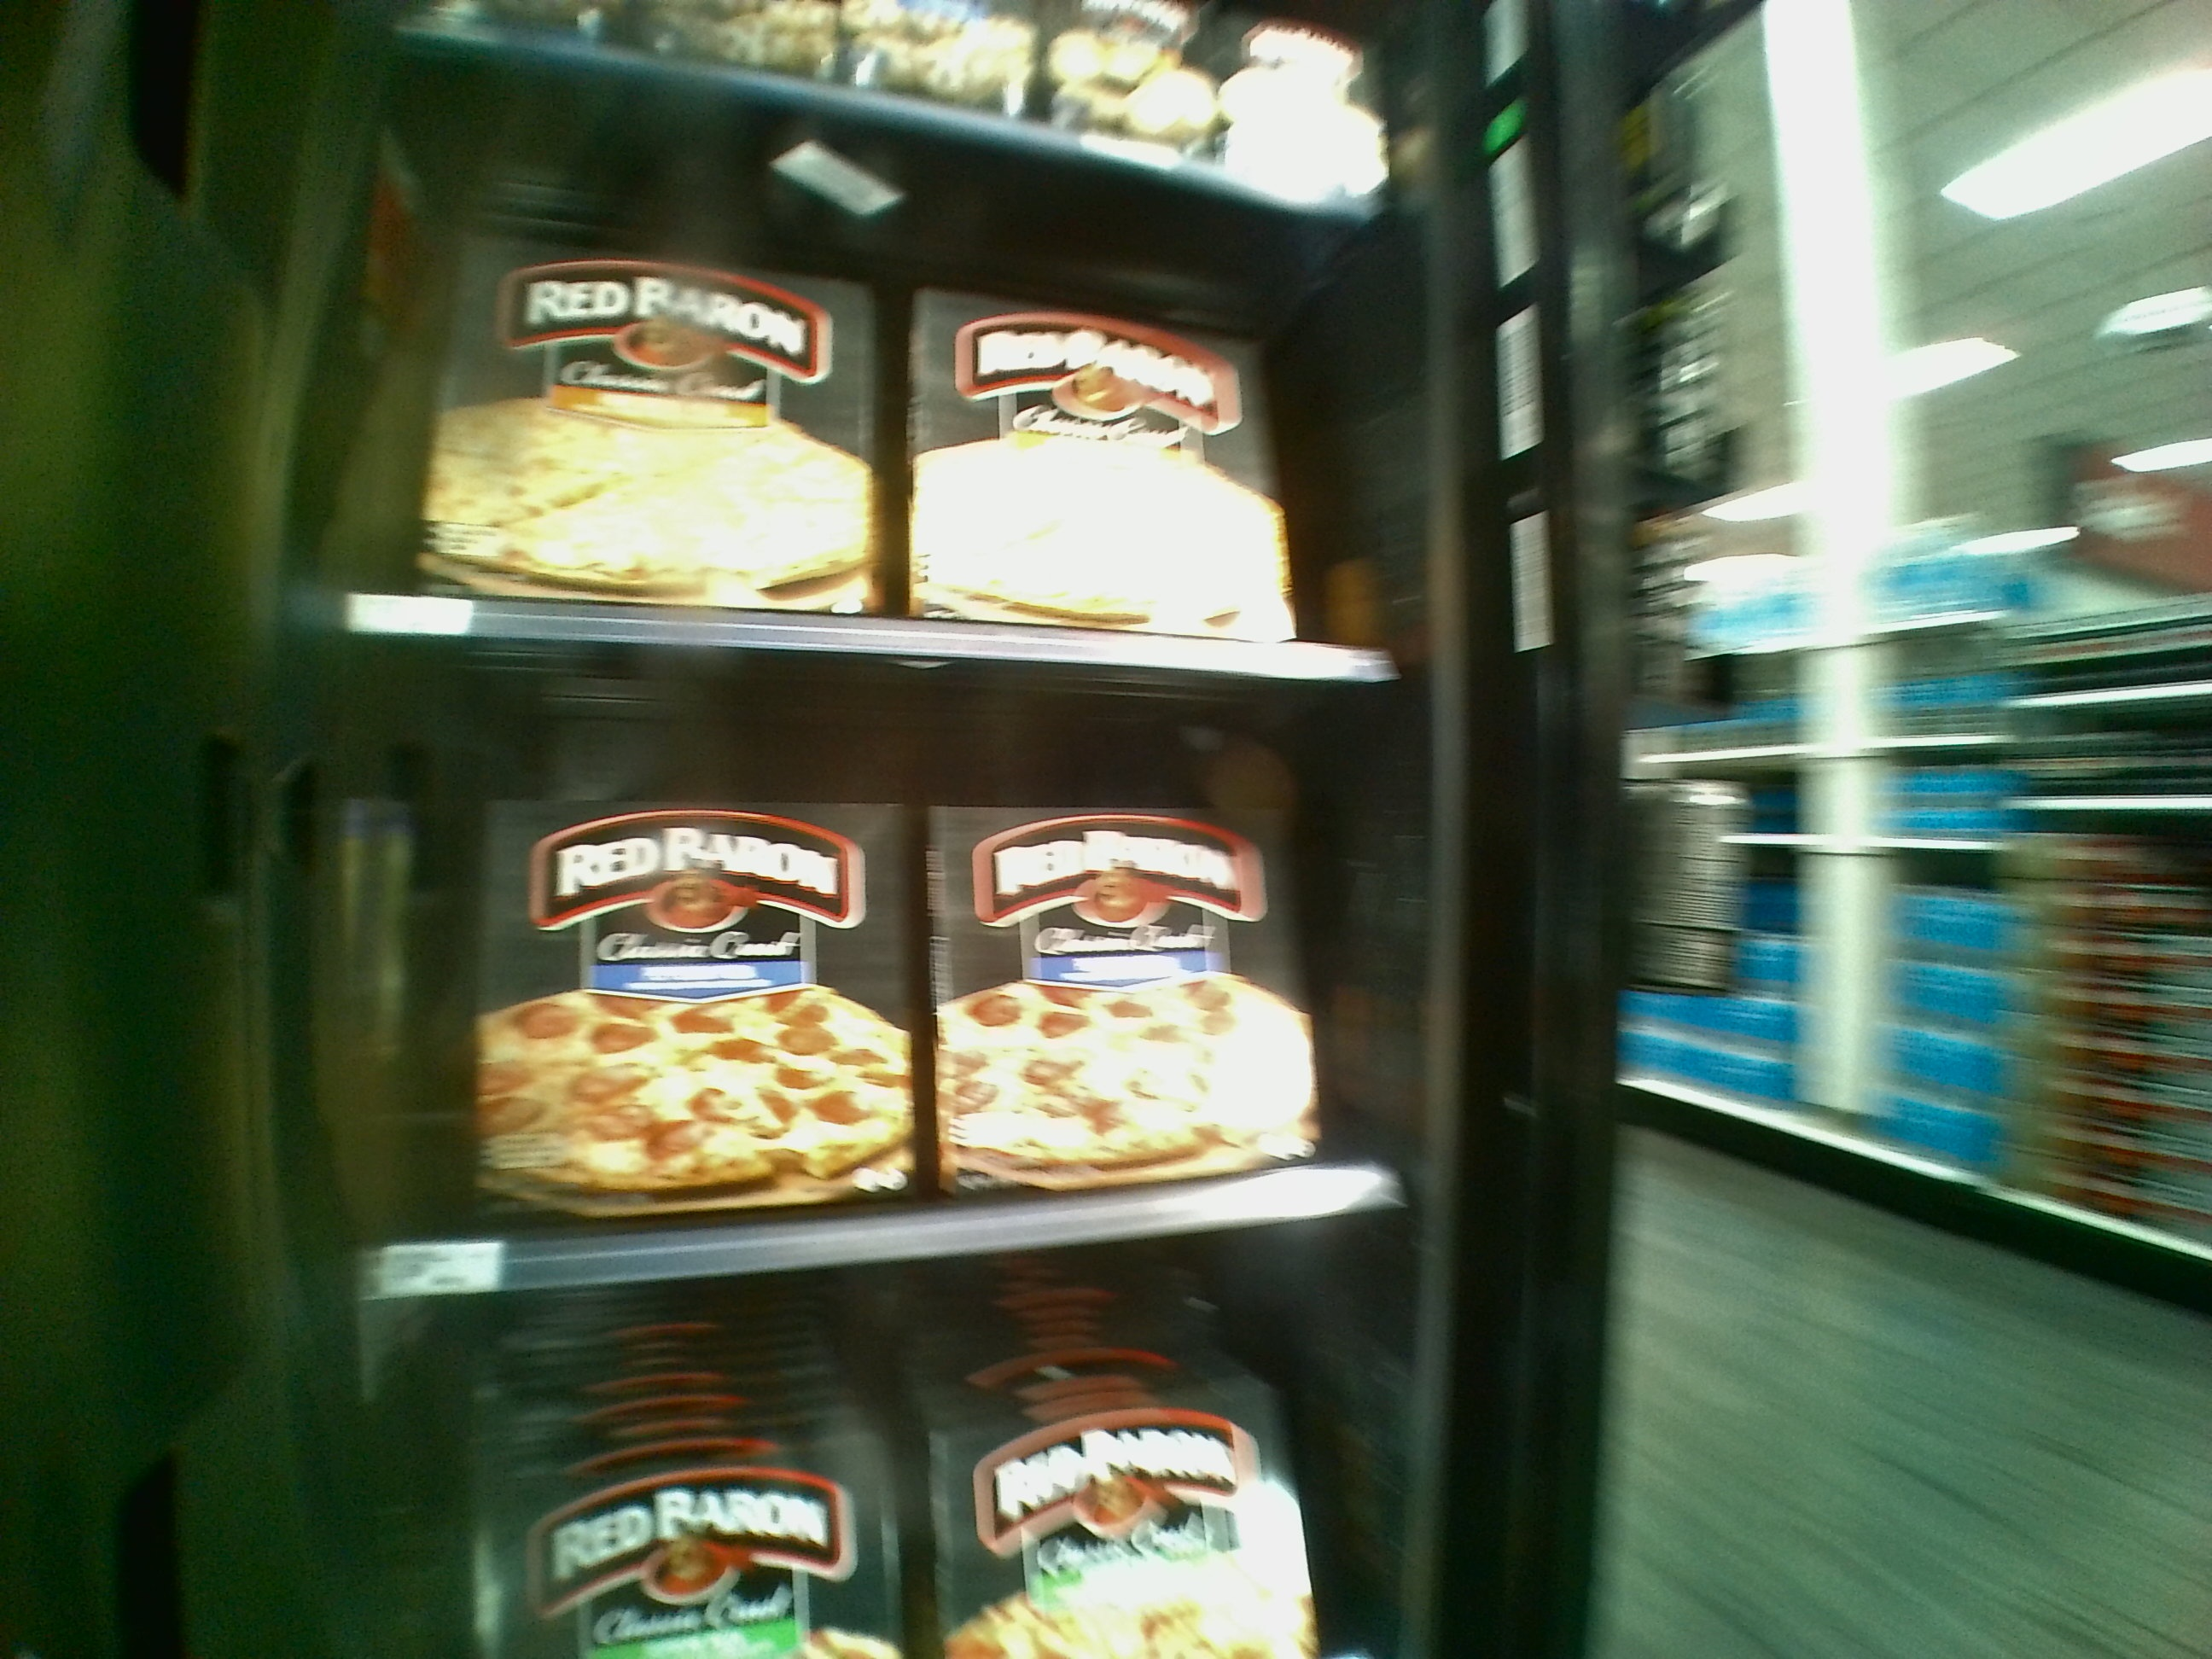shelf: (343, 680, 1433, 1302), (334, 143, 1421, 685)
